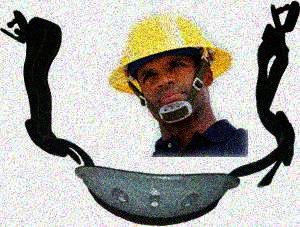helmet: (110, 12, 233, 122)
